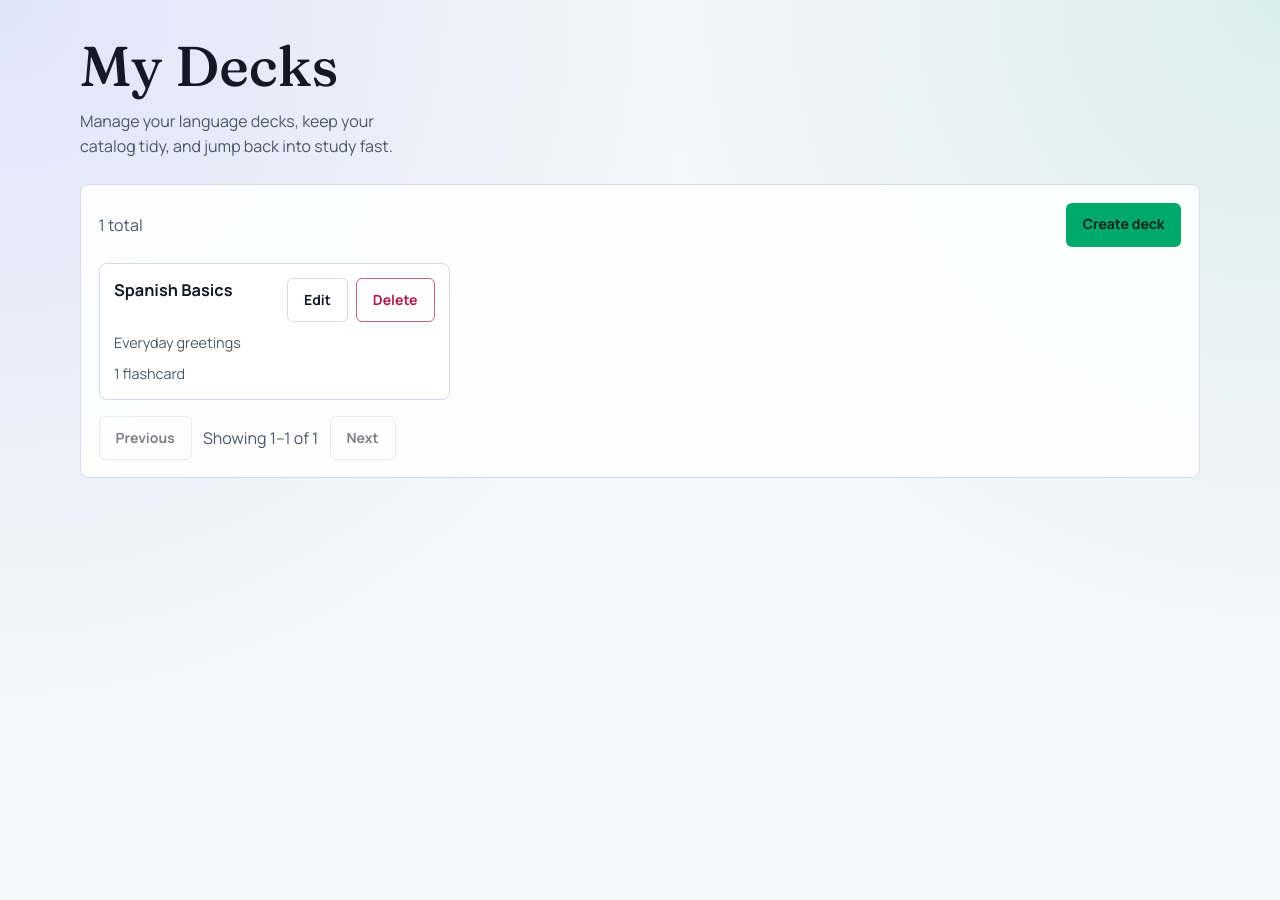
deck routes › renders singular flashcard count in list and delete confirmation
Expected: the text "1 flashcard" is shown, [114,364,185,383]
Click the button "Delete". click: (395, 300)
box: [356,278,434,322]
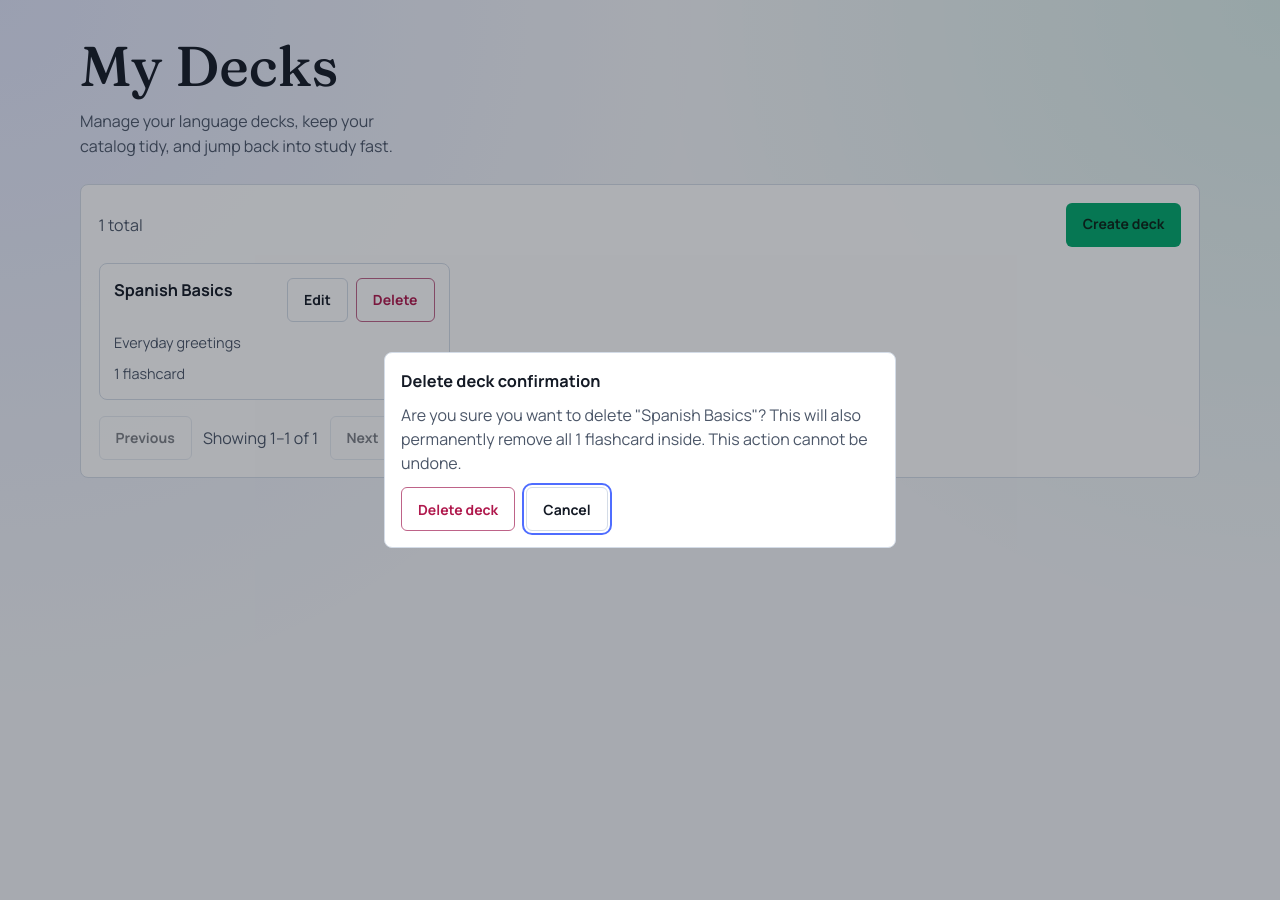
Expected: the text "remove all 1 flashcard inside" is shown, [401,403,879,475]
